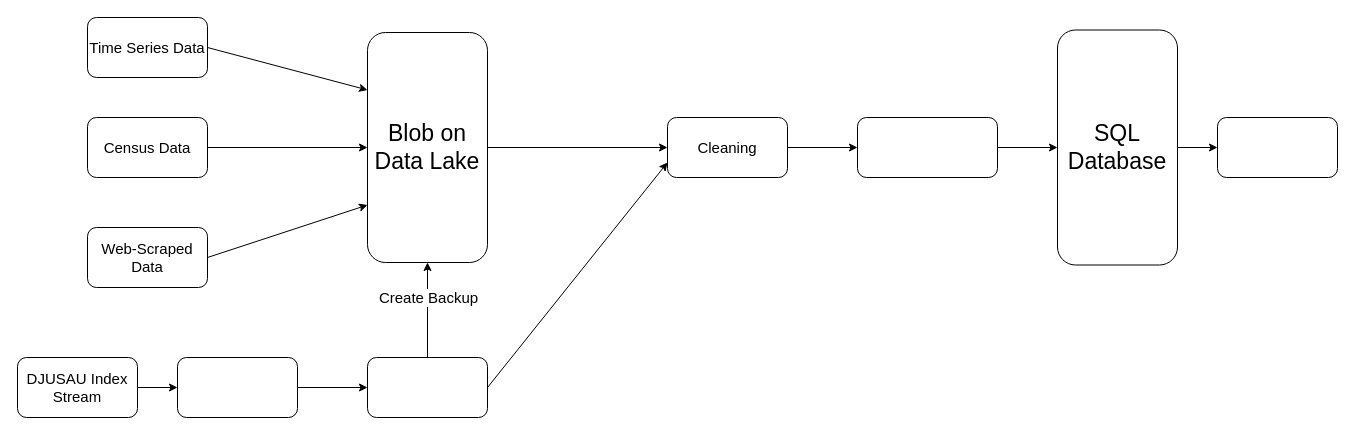
Image size: 1355x435. Some labels were removed from this diagram. The shapes that lost their labels are listed below. From the top down, each one's box as (x1, y1, x2, y2) in pixels, then its label:
(856, 116, 998, 178): Databrick: Push to Database
(1216, 116, 1338, 178): Plotly
(176, 356, 298, 418): Databrick: Kafka Producer
(366, 356, 488, 418): Databrick: Kafka Consumer
